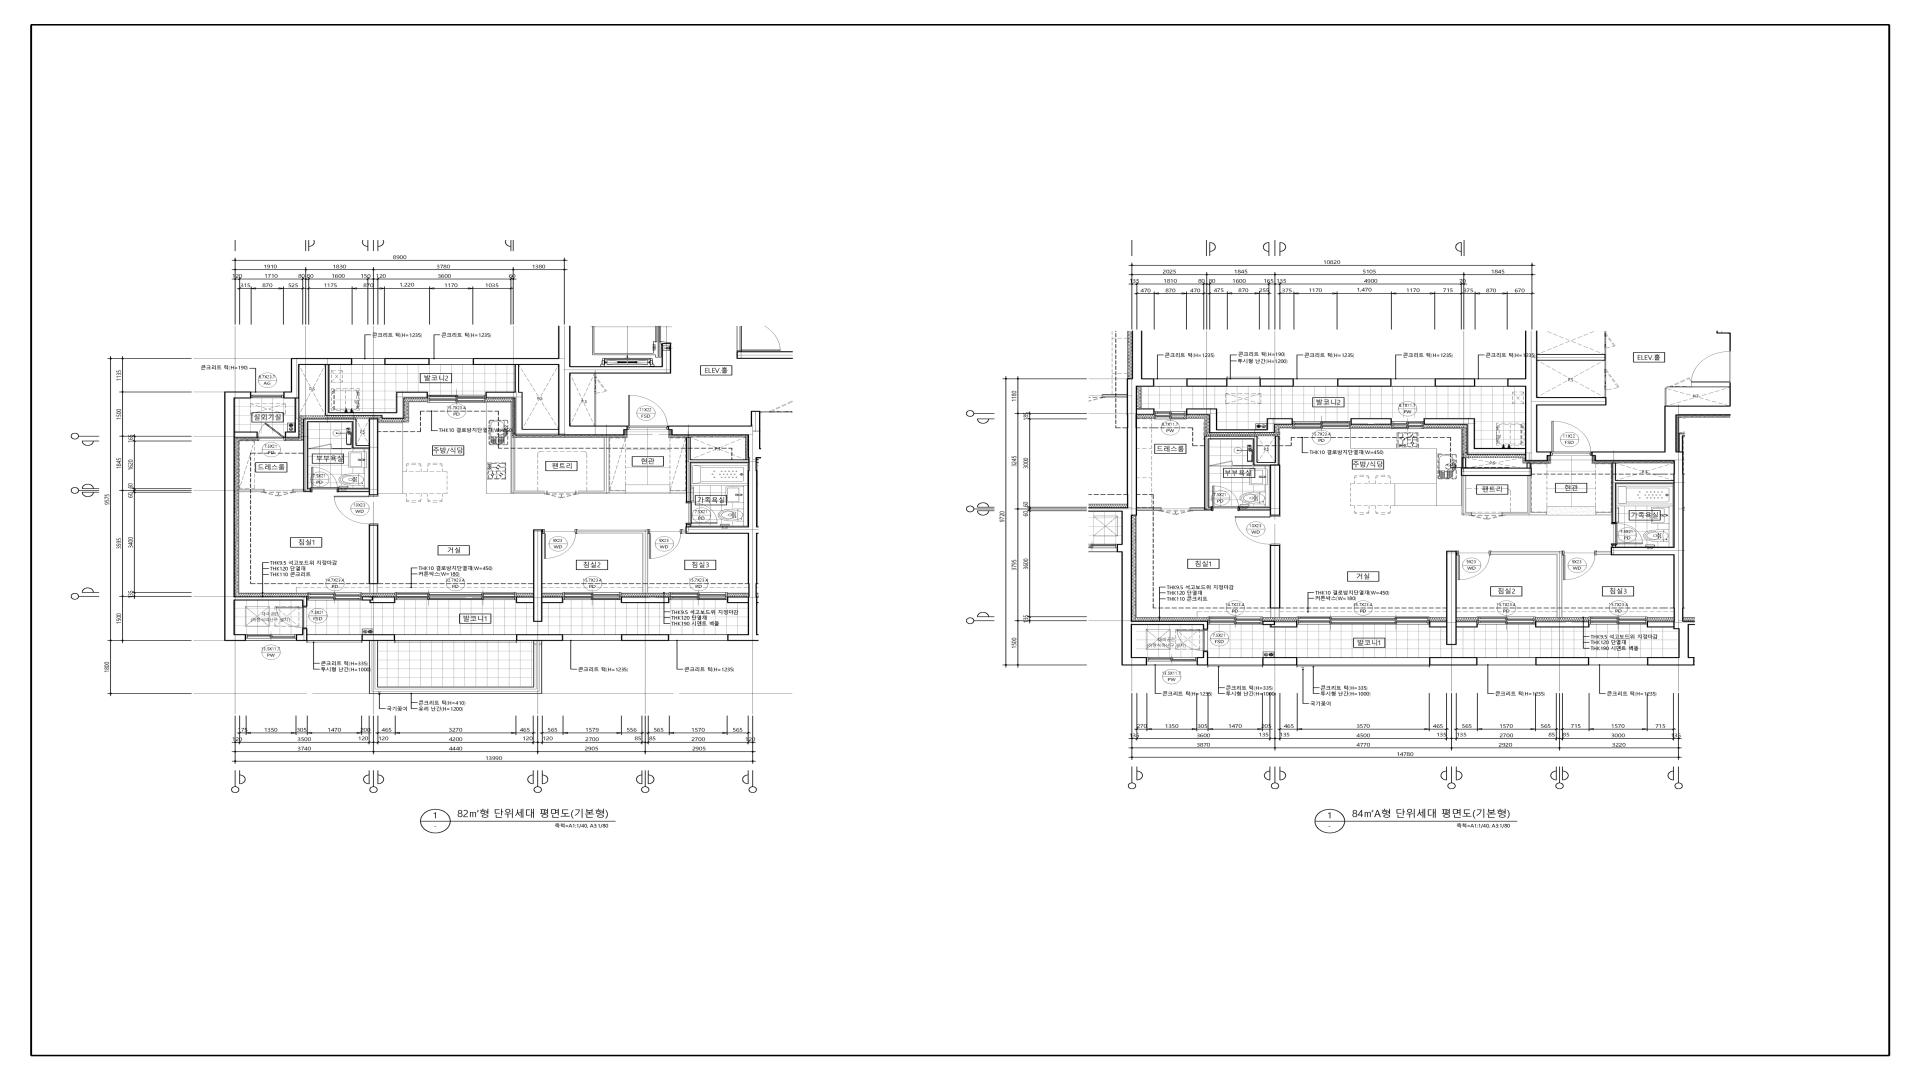door: (1551, 421, 1592, 456), (628, 396, 669, 430), (1234, 516, 1280, 545), (737, 326, 781, 351), (647, 529, 682, 559), (542, 529, 576, 559), (1457, 551, 1491, 580), (1563, 551, 1596, 580), (686, 501, 717, 525), (1212, 485, 1240, 512), (310, 467, 339, 492), (1611, 522, 1643, 545), (276, 607, 307, 629), (1176, 629, 1208, 651), (257, 423, 286, 440), (1605, 369, 1619, 390), (769, 401, 793, 413), (1472, 512, 1502, 520), (546, 491, 576, 498), (264, 489, 294, 497), (1160, 508, 1191, 516), (1669, 377, 1692, 388), (595, 376, 607, 393), (1209, 460, 1233, 467), (309, 443, 332, 450), (1605, 334, 1615, 348)
wall: (1592, 406, 1731, 666), (1121, 378, 1208, 666), (473, 326, 671, 435), (669, 411, 761, 641), (224, 392, 307, 641), (1507, 331, 1606, 462), (1191, 436, 1280, 516), (294, 418, 378, 496), (324, 365, 427, 419), (670, 438, 749, 502), (485, 365, 558, 435), (1461, 458, 1547, 516), (1491, 551, 1563, 617), (1596, 463, 1673, 522), (1429, 551, 1478, 645), (576, 530, 647, 593), (516, 530, 563, 622), (1424, 418, 1526, 455), (576, 438, 625, 495), (284, 359, 352, 398), (1185, 409, 1292, 433), (512, 438, 546, 493), (1270, 545, 1280, 617), (369, 525, 378, 593), (286, 398, 299, 438), (1535, 657, 1589, 666), (1429, 657, 1478, 666), (737, 351, 793, 359), (1337, 378, 1391, 386), (1535, 621, 1589, 628), (1262, 657, 1298, 666), (1435, 378, 1476, 386), (1187, 378, 1228, 386), (621, 596, 670, 603), (621, 634, 669, 641), (517, 634, 563, 641), (385, 359, 429, 365), (1259, 378, 1294, 386), (1350, 418, 1391, 425), (1262, 621, 1298, 628), (361, 596, 396, 603), (363, 634, 394, 641), (1647, 621, 1673, 628), (1196, 651, 1208, 666), (235, 431, 257, 438), (297, 629, 307, 641), (1137, 409, 1154, 415), (728, 597, 748, 603), (1665, 386, 1671, 406), (239, 489, 264, 492), (1137, 508, 1160, 510), (1596, 551, 1610, 555), (1692, 386, 1730, 388), (595, 393, 596, 426), (332, 448, 352, 450), (1233, 465, 1253, 467), (682, 530, 686, 534), (1611, 545, 1617, 547), (761, 411, 770, 413), (1605, 361, 1606, 369), (1605, 390, 1606, 397), (686, 525, 691, 526), (1605, 348, 1606, 353), (595, 373, 596, 376), (1605, 331, 1606, 334), (309, 448, 309, 450)
window: (1298, 658, 1429, 667), (394, 634, 517, 644), (1298, 617, 1429, 625), (396, 592, 517, 600), (307, 634, 363, 644), (1208, 658, 1262, 667), (669, 592, 728, 600), (1292, 421, 1350, 429), (427, 394, 485, 402), (563, 592, 621, 600), (1589, 658, 1647, 666), (1589, 617, 1647, 625), (1147, 657, 1196, 666), (1478, 658, 1535, 666), (1478, 617, 1535, 625), (307, 592, 361, 600), (1208, 617, 1262, 625), (669, 634, 728, 641), (563, 634, 621, 641), (1391, 378, 1435, 386), (1294, 378, 1337, 386), (245, 634, 297, 641), (429, 359, 473, 365), (1154, 378, 1187, 386), (1476, 378, 1507, 386), (1228, 378, 1259, 386), (1393, 421, 1424, 429), (1155, 411, 1185, 419), (352, 359, 385, 365), (251, 392, 284, 398)
